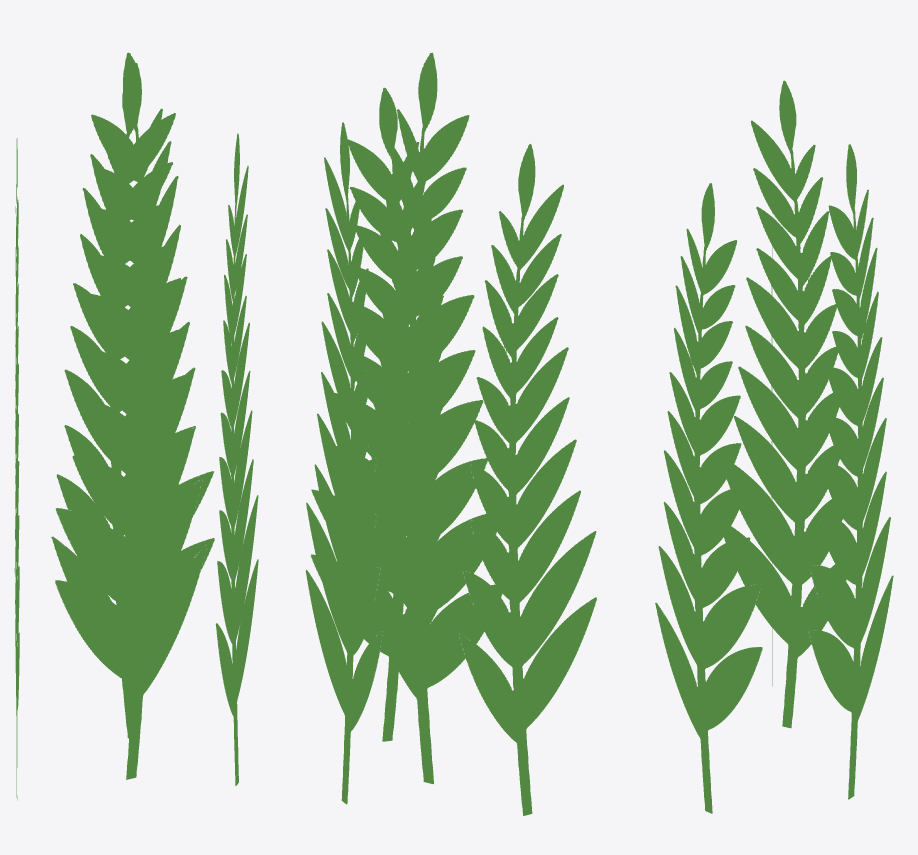
Rendered from Plant_04.fbx.
The picture shows the model from 3 angles, left to right: view 1: azimuth 30°, elevation 25°; view 2: azimuth 150°, elevation 25°; view 3: azimuth 270°, elevation 25°; orthographic projection. The views are drawn at different scales.
Parts seen in each view (by area): view 1: Plant_04_LOD0; view 2: Plant_04_LOD0; view 3: Plant_04_LOD0.
Boxes of the visible parts, x1=… form: Plant_04_LOD0: x1=14, y1=52, x2=258, y2=800; Plant_04_LOD0: x1=305, y1=52, x2=596, y2=815; Plant_04_LOD0: x1=655, y1=80, x2=893, y2=813.
Size of what is drawn, in the model's own units: 0.178 by 0.4472 by 0.1477.
